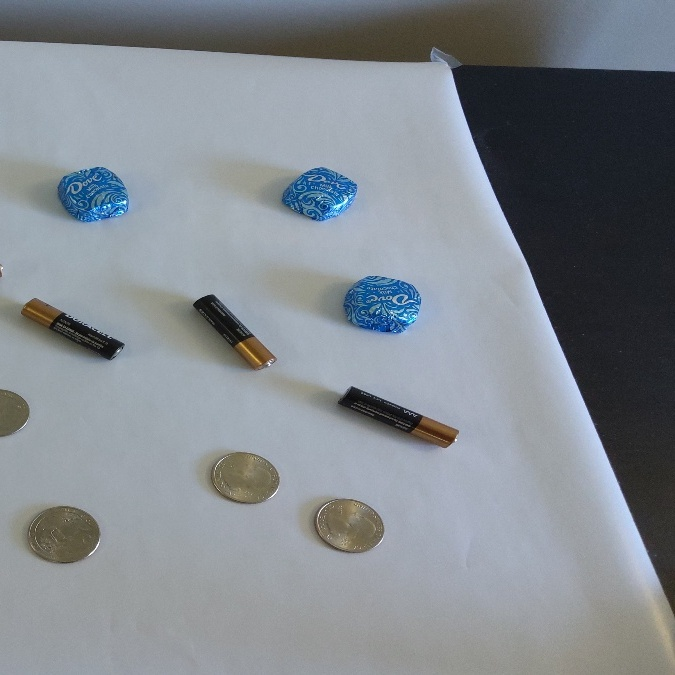battery: (331, 375, 480, 463), (190, 285, 284, 383), (20, 285, 133, 363)
chocolate_blue: (52, 157, 142, 231), (339, 265, 423, 342), (274, 159, 363, 229)
coin_quarter: (26, 495, 110, 574), (310, 493, 395, 565), (207, 447, 284, 511)
